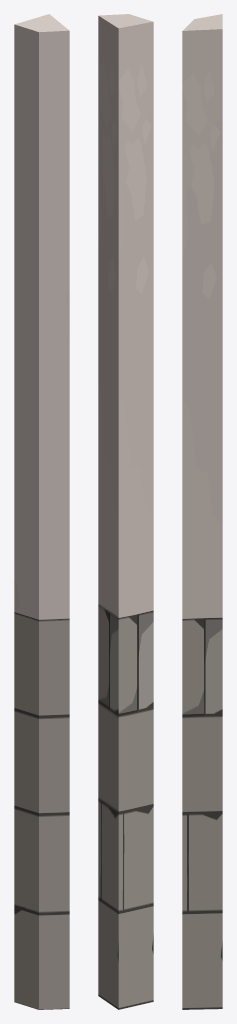
The model's file is SM_Bld_Wall_End_01.fbx.
The picture shows the model from 3 angles, left to right: view 1: azimuth 30°, elevation 25°; view 2: azimuth 210°, elevation 25°; view 3: azimuth 270°, elevation 25°; orthographic projection.
Parts seen in each view (by area): view 1: SM_Bld_Wall_End_01; view 2: SM_Bld_Wall_End_01; view 3: SM_Bld_Wall_End_01.
Part boxes in pixels (x1=…): SM_Bld_Wall_End_01: x1=14, y1=14, x2=69, y2=1009; SM_Bld_Wall_End_01: x1=98, y1=14, x2=153, y2=1009; SM_Bld_Wall_End_01: x1=182, y1=14, x2=222, y2=1009.
Bounding box in the file's own units: 11.25 × 301 × 11.25.
